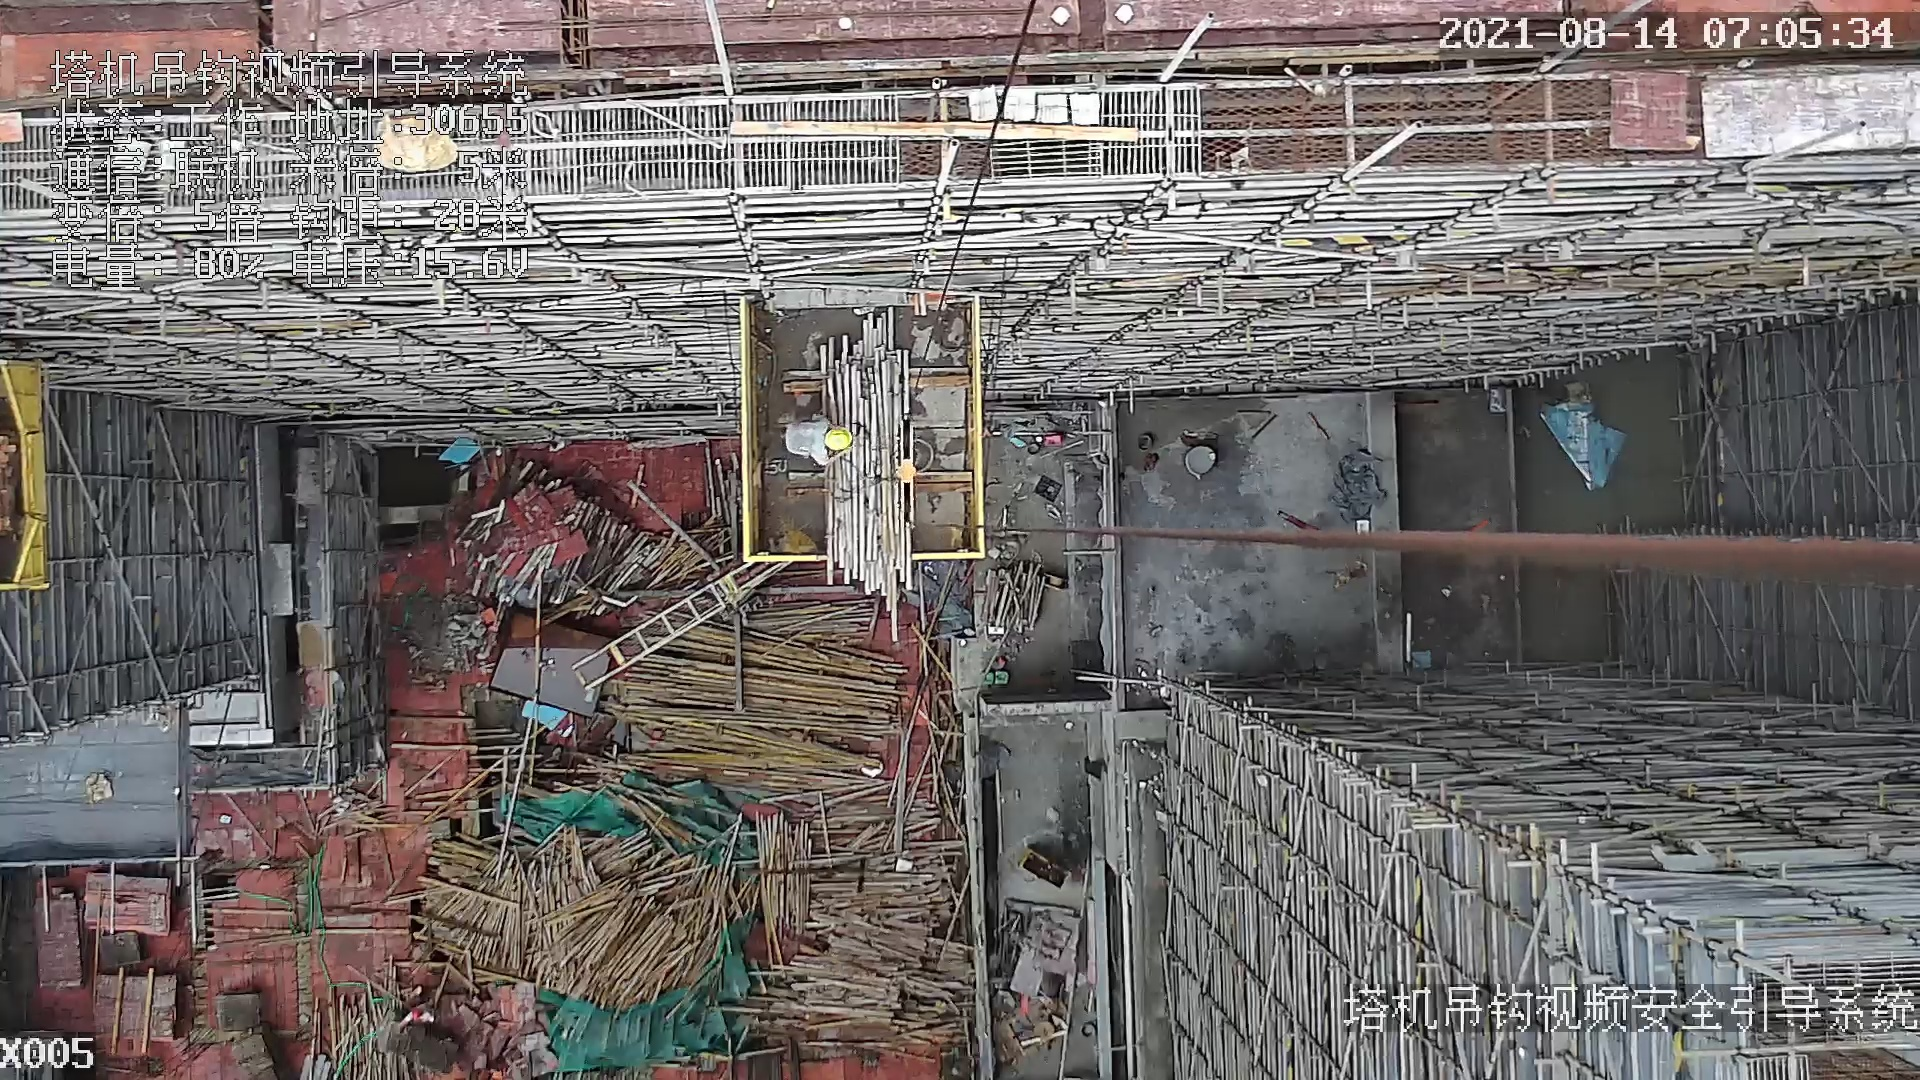helmet: (823, 426, 854, 452)
hook: (883, 422, 927, 527)
person: (782, 414, 858, 467)
